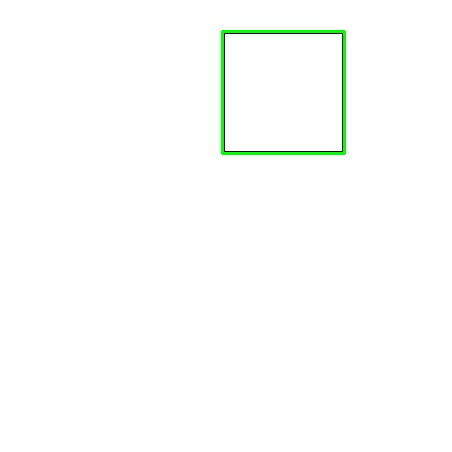line_segment: (221, 30, 346, 154)
